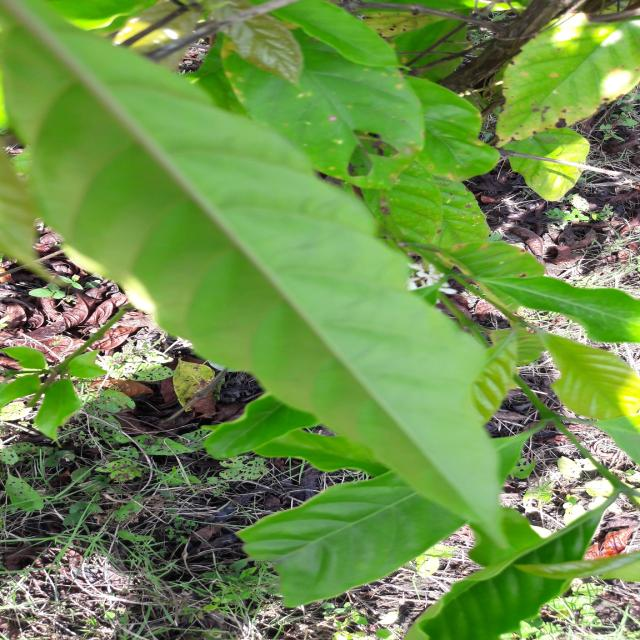Sanas: (0, 8, 544, 568)
